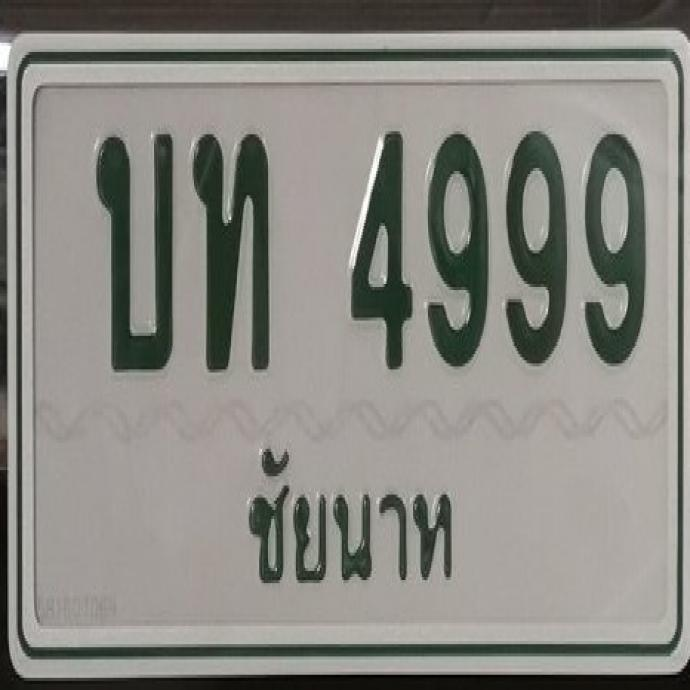4: (349, 125, 411, 368)
9: (503, 126, 566, 365), (583, 128, 645, 365), (426, 127, 487, 366)
A23: (191, 128, 269, 369)
A26: (95, 123, 173, 371)
CNT: (239, 444, 459, 591)
